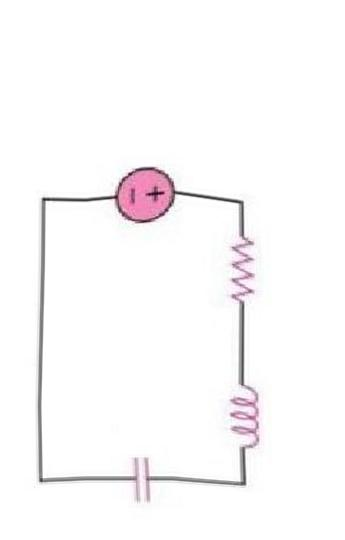Battery: (96, 152, 186, 233)
